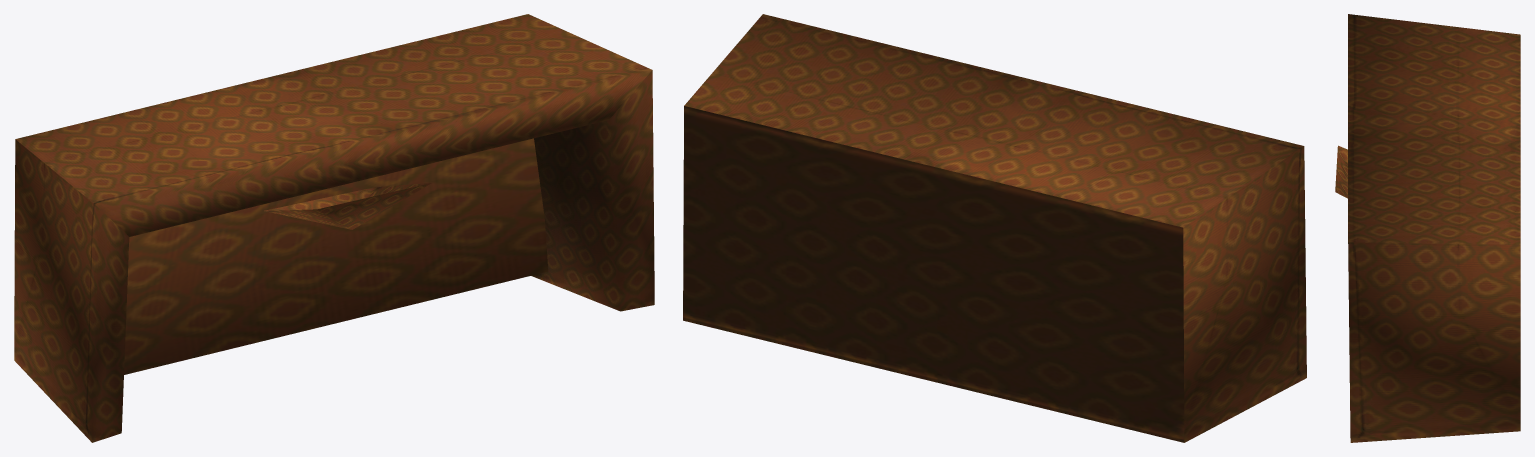
File: nt_2020_moving_couch_01_LOD3.obj
3 views of the same model, side by side, from view 1: azimuth 30°, elevation 25°; view 2: azimuth 150°, elevation 25°; view 3: azimuth 270°, elevation 25° (orthographic). The views are drawn at different scales.
Visible parts, largest first — view 1: mtl_nt_2020_moving_couch_01; view 2: mtl_nt_2020_moving_couch_01; view 3: mtl_nt_2020_moving_couch_01.
Boxes of the visible parts, <box> form: mtl_nt_2020_moving_couch_01: <box>14,14,654,442</box>; mtl_nt_2020_moving_couch_01: <box>683,14,1306,442</box>; mtl_nt_2020_moving_couch_01: <box>1335,14,1520,442</box>.
Size of the model in its own units: 217 by 87.48 by 73.81.
